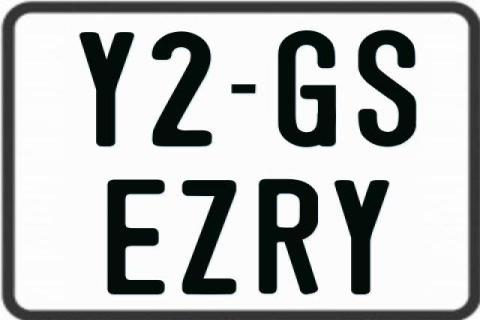0: (149, 31, 214, 147)
E: (107, 177, 166, 293)
G: (275, 30, 337, 148)
R: (257, 179, 319, 295)
S: (358, 28, 422, 148)
Y: (332, 178, 387, 294), (80, 32, 135, 146)
Z: (182, 179, 236, 299)
